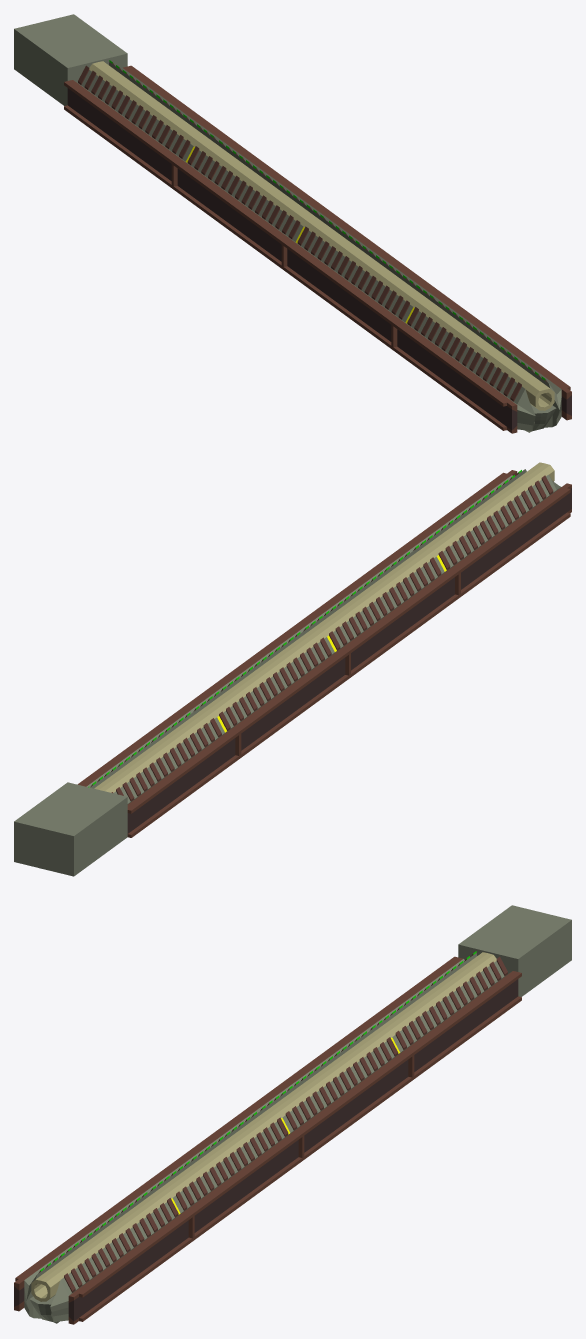
Rendered from launchPoint.fbx.
3 renders of one model, top to bottom at view 1: azimuth 30°, elevation 25°; view 2: azimuth 150°, elevation 25°; view 3: azimuth 330°, elevation 25°, orthographic.
Visible parts, largest first — view 1: Cube; view 2: Cube; view 3: Cube.
Boxes of the visible parts, x1,y1,x2,y2 form: Cube: (14, 14, 571, 433); Cube: (14, 462, 571, 876); Cube: (14, 905, 571, 1324).
Bounding box in the file's own units: 225 × 149 × 2912.
1 material, 1 textured.
